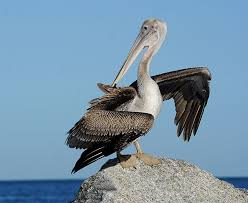pelican: (66, 18, 213, 173)
